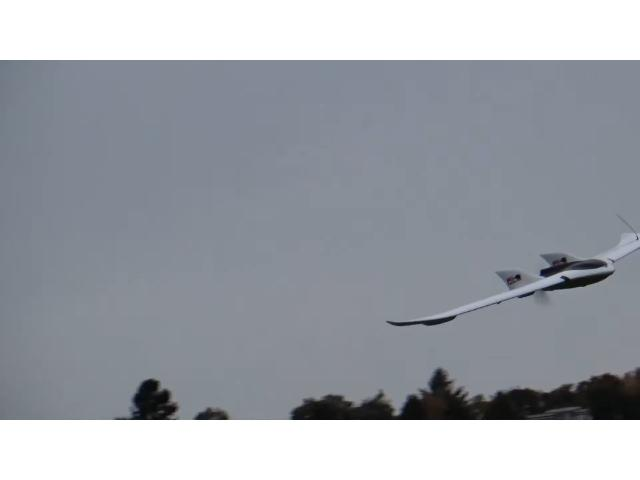Anti-Drone: (388, 232, 640, 324)
